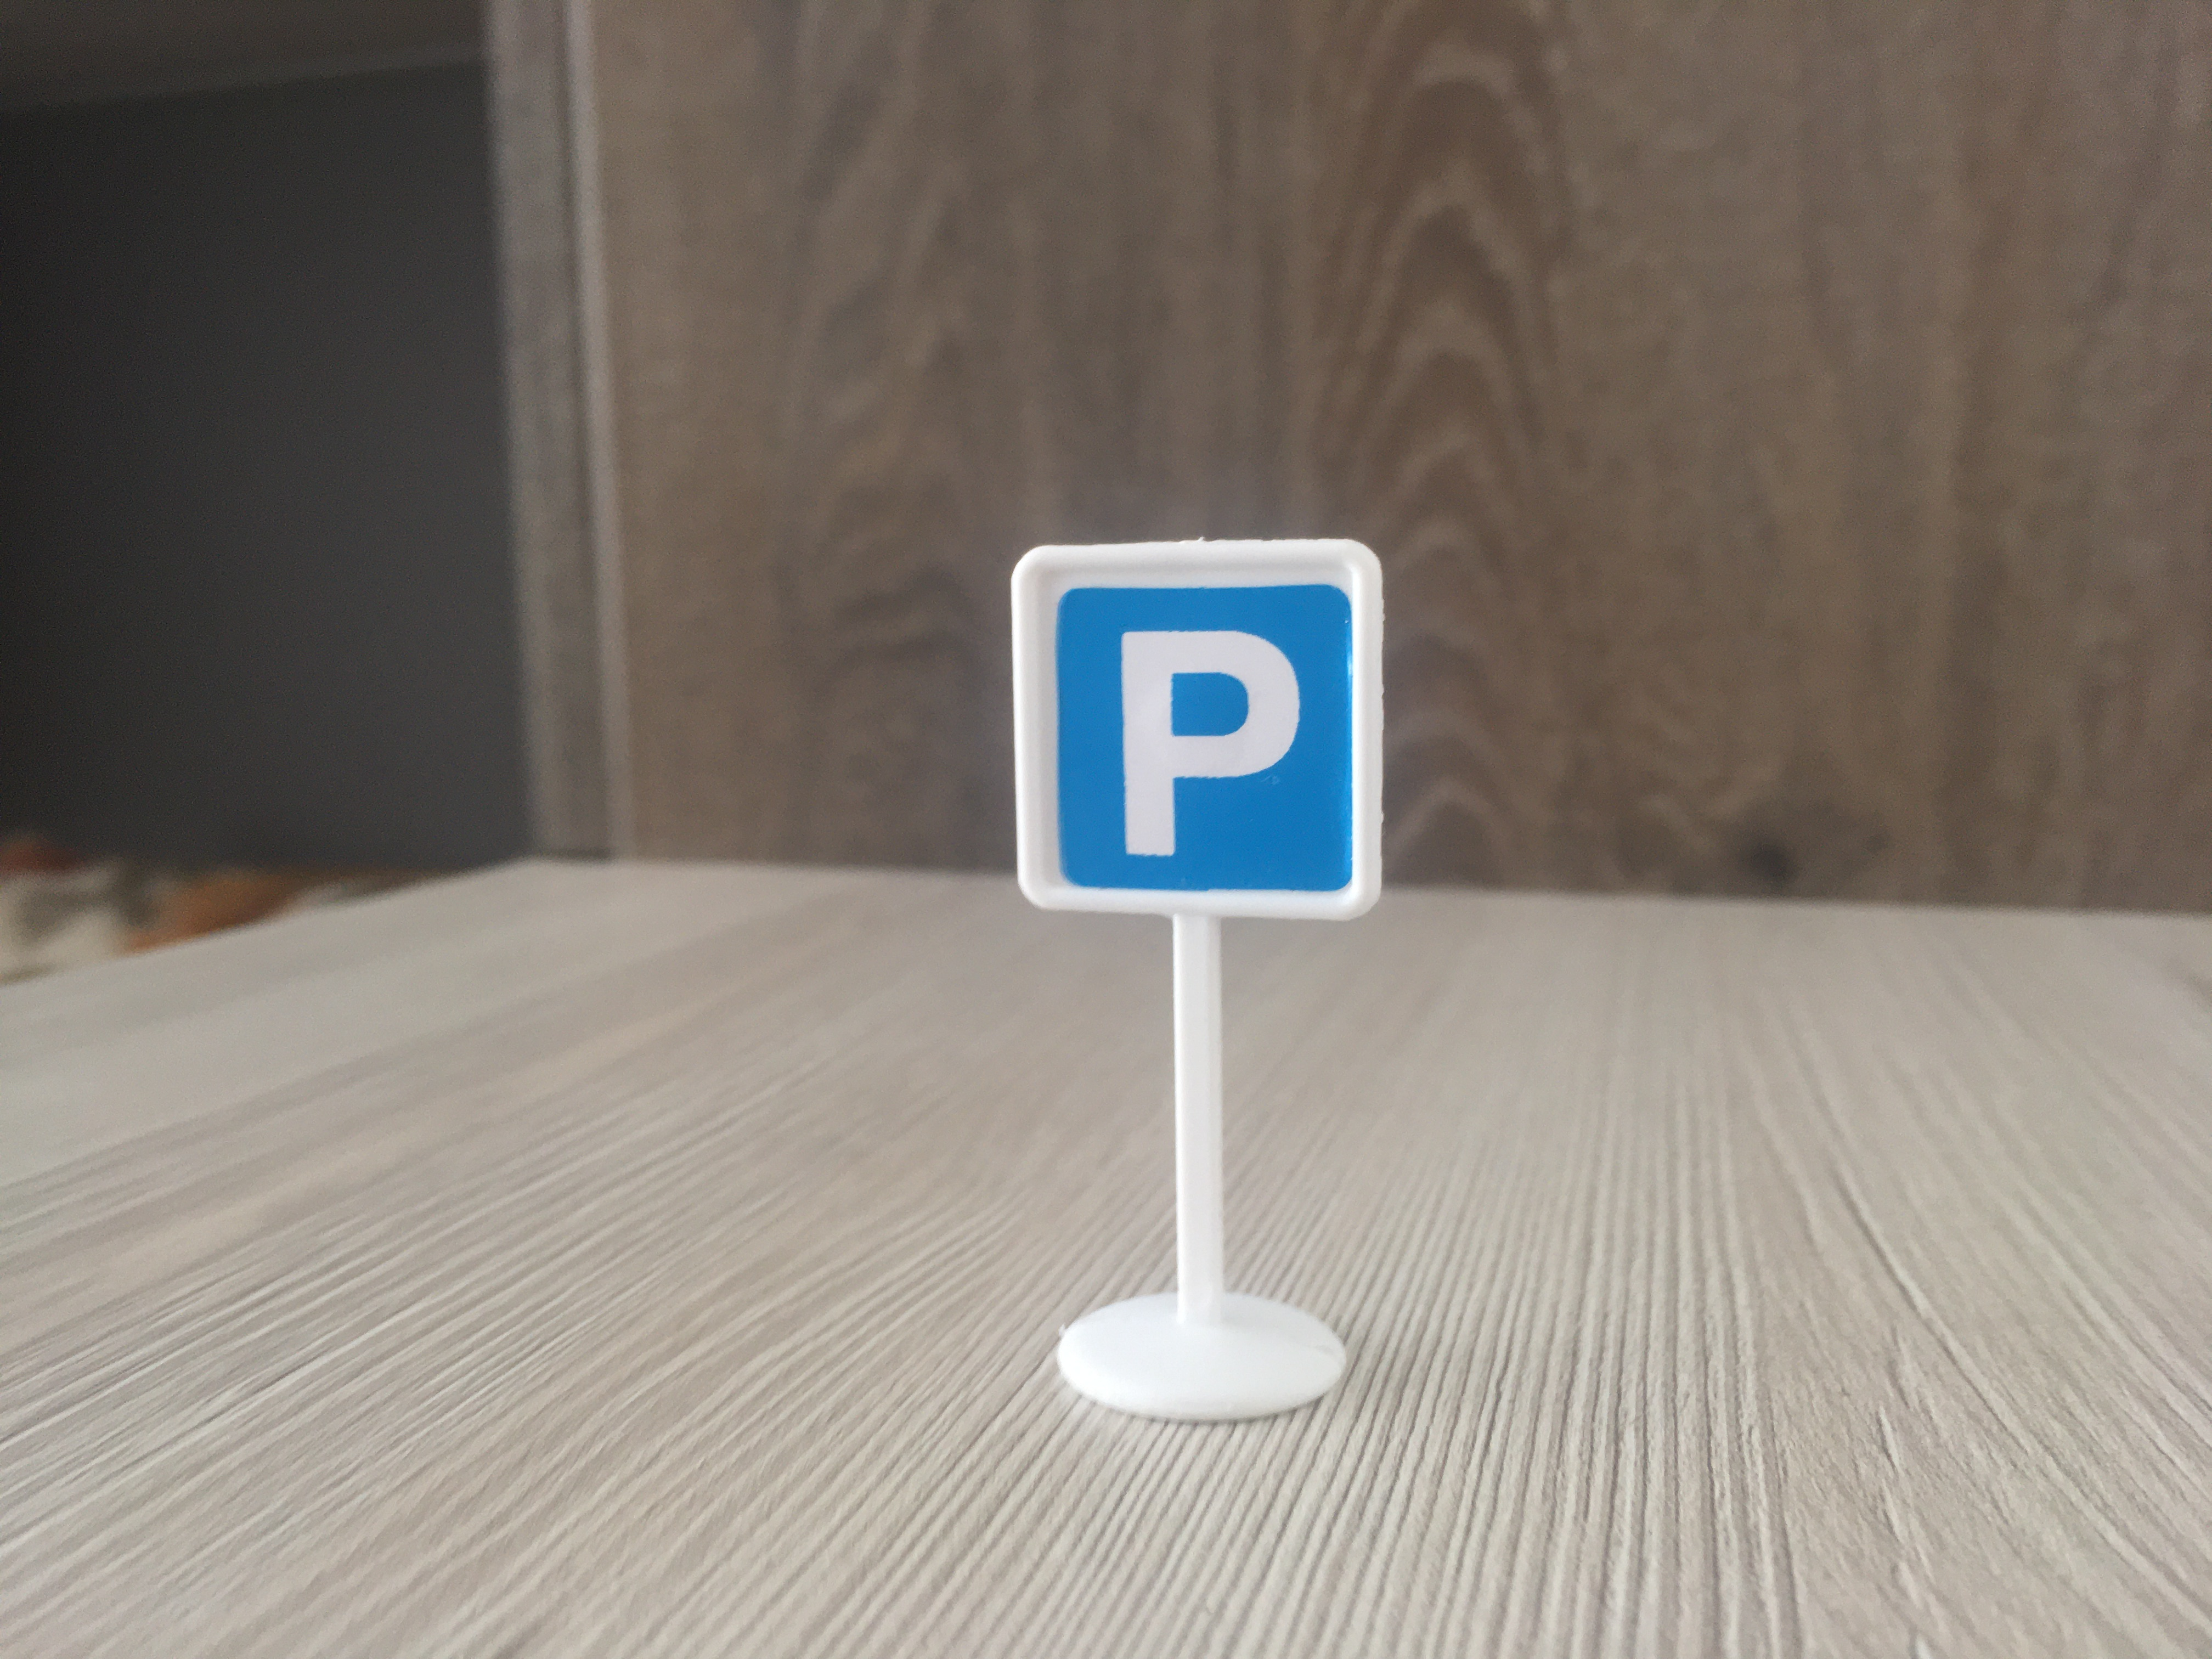parking: (1005, 535, 1395, 927)
